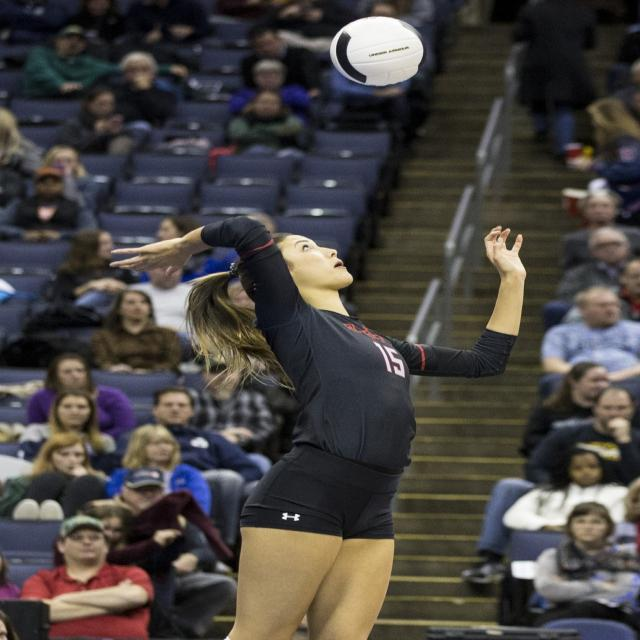body: (104, 213, 532, 639), (458, 383, 639, 586), (110, 386, 264, 575), (515, 0, 640, 222), (112, 468, 239, 640), (43, 0, 437, 50), (17, 512, 159, 639), (529, 502, 640, 630), (20, 23, 189, 102), (535, 282, 640, 404), (499, 448, 633, 534), (104, 421, 214, 518), (25, 350, 141, 440), (0, 431, 114, 521), (51, 498, 185, 574), (516, 361, 613, 459), (225, 57, 316, 160), (192, 211, 281, 313), (182, 361, 279, 445), (18, 387, 121, 464), (89, 290, 183, 374), (0, 167, 99, 245), (0, 106, 44, 266), (49, 229, 135, 307), (133, 212, 228, 282), (557, 189, 639, 270), (238, 22, 324, 98), (44, 85, 135, 156), (321, 63, 410, 135), (554, 225, 633, 301), (107, 49, 180, 130), (126, 262, 197, 338), (40, 143, 99, 229), (227, 86, 303, 140), (621, 476, 640, 564), (615, 258, 640, 323), (0, 553, 18, 640), (224, 278, 257, 312)
